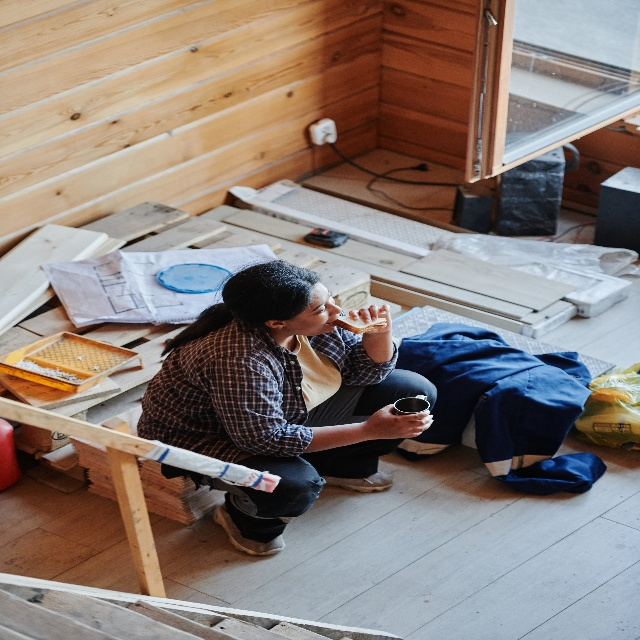Sin_guantes: (367, 403, 434, 440), (349, 304, 392, 335)
